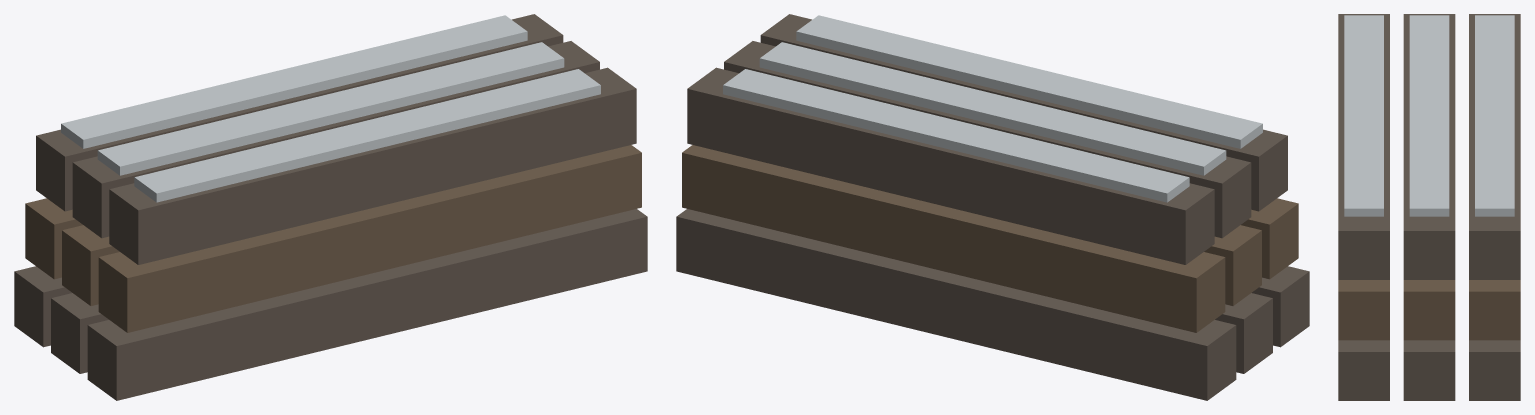
The model's file is sleeper_stack.glb.
3 renders of one model, left to right at view 1: azimuth 30°, elevation 25°; view 2: azimuth 150°, elevation 25°; view 3: azimuth 270°, elevation 25°, orthographic. The views are drawn at different scales.
Visible parts, largest first — view 1: sleeper_stack; view 2: sleeper_stack; view 3: sleeper_stack.
Boxes of the visible parts, x1,y1,x2,y2 form: sleeper_stack: [14, 14, 647, 400]; sleeper_stack: [676, 14, 1309, 400]; sleeper_stack: [1338, 14, 1520, 400].
Size of the model in its own units: 3 by 1.05 by 1.
